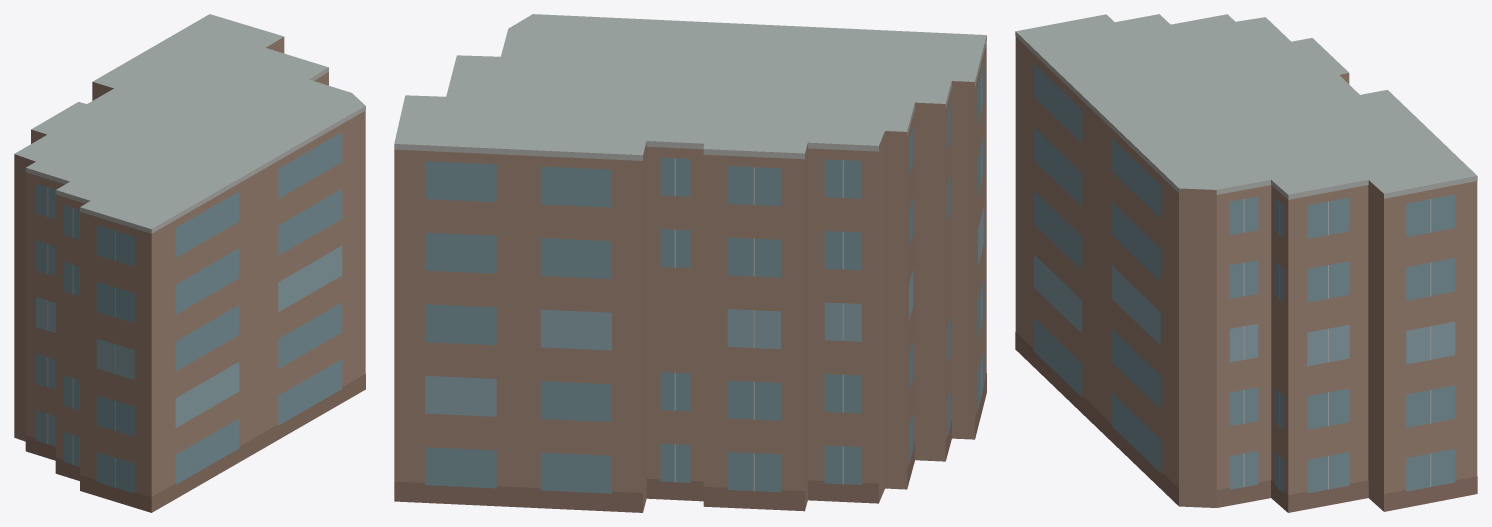
The model's file is survey-upis-32487721.glb.
3 views of the same model, side by side, from view 1: azimuth 30°, elevation 25°; view 2: azimuth 150°, elevation 25°; view 3: azimuth 270°, elevation 25° (orthographic). The views are drawn at different scales.
Visible parts, largest first — view 1: survey-upis-32487721.tmp; view 2: survey-upis-32487721.tmp; view 3: survey-upis-32487721.tmp.
Part boxes in pixels (x1,y1,x2,y2): survey-upis-32487721.tmp: (14,14,365,512); survey-upis-32487721.tmp: (394,14,986,512); survey-upis-32487721.tmp: (1015,14,1477,512).
Size of the model in its own units: 18.6 by 15.25 by 20.08.
